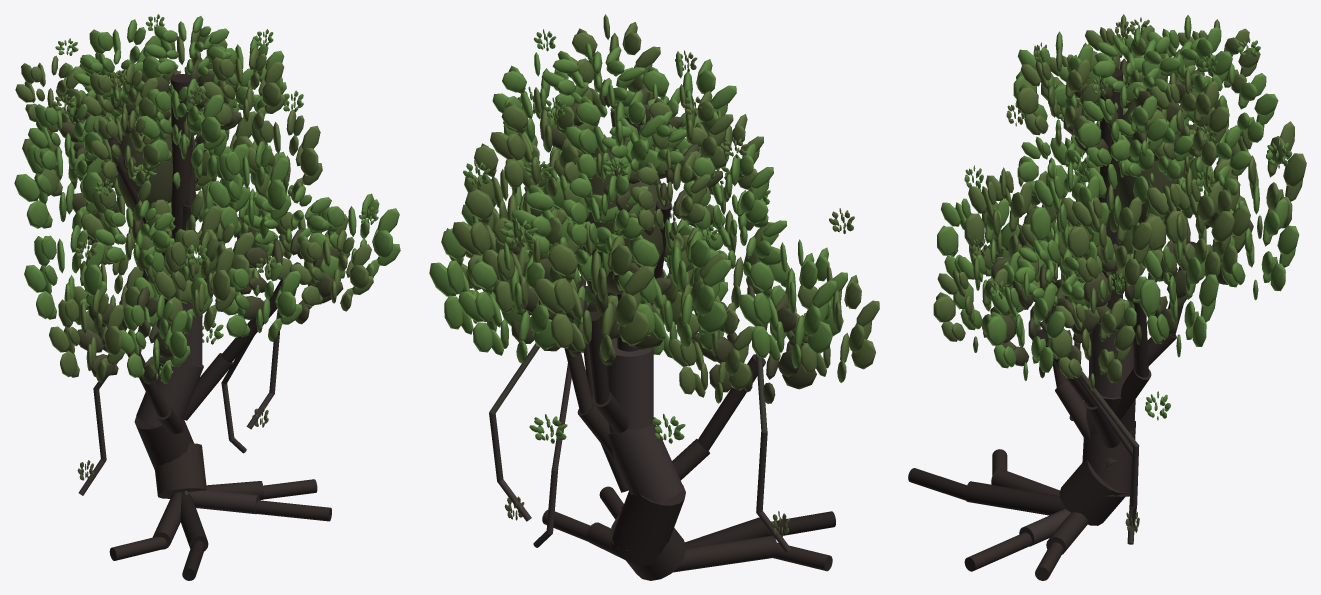
The model's file is CMU3DBroadleafTree04.glb.
3 views of the same model, side by side, from view 1: azimuth 30°, elevation 25°; view 2: azimuth 150°, elevation 25°; view 3: azimuth 270°, elevation 25° (orthographic). The views are drawn at different scales.
Parts seen in each view (by area): view 1: irregular rounded leaf cluster (×30), off-center crown cluster (×5), rounded leaf core (×5), source curved trunk 1, source curved trunk 3, inferred hidden trunk continuation, dark inner oval foliage, source curved trunk 2, source root 1.1, source root 1.2, inferred crown branch 4.1, source root 2.1 (+8 smaller); view 2: irregular rounded leaf cluster (×28), off-center crown cluster (×4), rounded leaf core (×5), source curved trunk 3, source curved trunk 2, source curved trunk 4, source root 3.1, dark inner oval foliage, source curved trunk 1, inferred crown branch 5.2, inferred crown branch 6.2, source root 2.1 (+11 smaller); view 3: irregular rounded leaf cluster (×29), off-center crown cluster (×6), rounded leaf core (×3), source curved trunk 1, source root 2.1, source curved trunk 2, source curved trunk 4, dark inner oval foliage, source root 1.2, inferred hidden trunk continuation, inferred crown branch 5.1, source root 2.2 (+10 smaller).
Boxes of the visible parts, bbox=[...] form: irregular rounded leaf cluster (×30): bbox=[14, 19, 400, 383]; off-center crown cluster (×5): bbox=[73, 16, 331, 267]; rounded leaf core (×5): bbox=[60, 58, 343, 384]; source curved trunk 1: bbox=[154, 443, 206, 498]; source curved trunk 3: bbox=[136, 363, 203, 426]; inferred hidden trunk continuation: bbox=[171, 74, 191, 279]; dark inner oval foliage: bbox=[117, 92, 195, 221]; source curved trunk 2: bbox=[134, 416, 193, 469]; source root 1.1: bbox=[188, 490, 259, 514]; source root 1.2: bbox=[255, 500, 331, 521]; inferred crown branch 4.1: bbox=[183, 353, 233, 420]; source root 2.1: bbox=[180, 492, 208, 551]; irregular rounded leaf cluster (×28): bbox=[429, 14, 879, 403]; off-center crown cluster (×4): bbox=[511, 43, 786, 276]; rounded leaf core (×5): bbox=[492, 79, 816, 403]; source curved trunk 3: bbox=[608, 422, 683, 503]; source curved trunk 2: bbox=[611, 484, 685, 565]; source curved trunk 4: bbox=[606, 338, 653, 433]; source root 3.1: bbox=[673, 535, 777, 572]; dark inner oval foliage: bbox=[583, 140, 663, 294]; source curved trunk 1: bbox=[610, 514, 686, 580]; inferred crown branch 5.2: bbox=[697, 354, 765, 451]; inferred crown branch 6.2: bbox=[588, 311, 609, 404]; source root 2.1: bbox=[685, 517, 768, 547]; irregular rounded leaf cluster (×29): bbox=[933, 14, 1306, 390]; off-center crown cluster (×6): bbox=[1014, 27, 1251, 306]; rounded leaf core (×3): bbox=[990, 58, 1187, 378]; source curved trunk 1: bbox=[1059, 460, 1127, 525]; source root 2.1: bbox=[965, 481, 1065, 515]; source curved trunk 2: bbox=[1082, 421, 1135, 496]; source curved trunk 4: bbox=[1088, 299, 1133, 397]; dark inner oval foliage: bbox=[1117, 90, 1186, 224]; source root 1.2: bbox=[964, 532, 1032, 571]; inferred hidden trunk continuation: bbox=[1100, 68, 1122, 309]; inferred crown branch 5.1: bbox=[1055, 381, 1117, 467]; source root 2.2: bbox=[908, 468, 966, 500].
Size of the model in its own units: 1.82 by 2.3 by 1.67.
